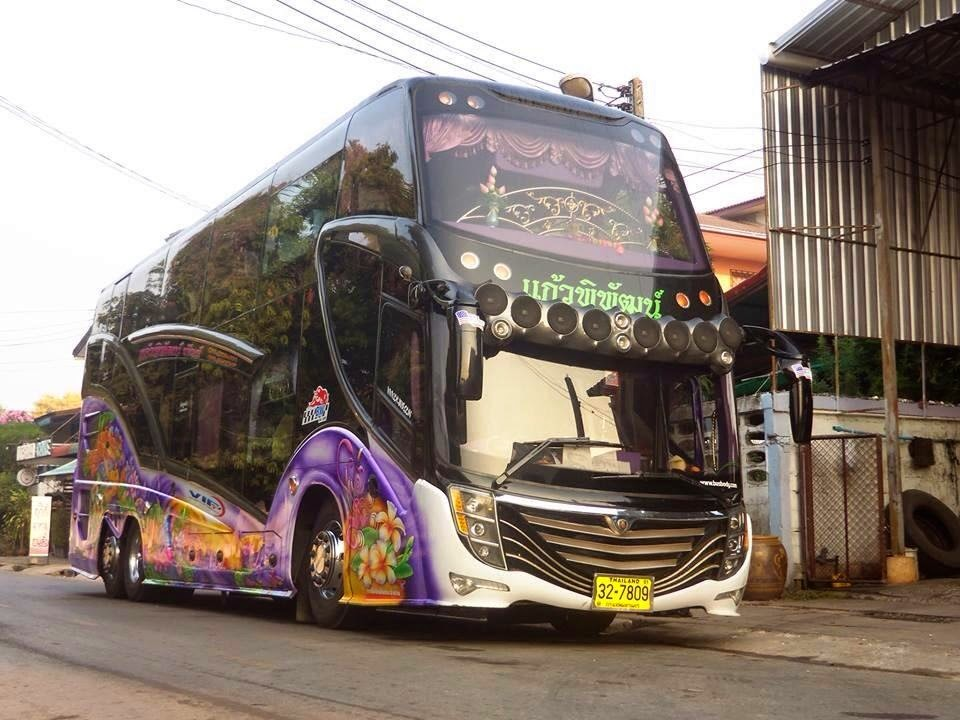bus: (73, 74, 756, 631)
